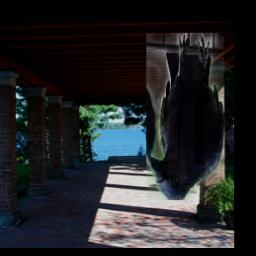Crow: (147, 34, 225, 201)
